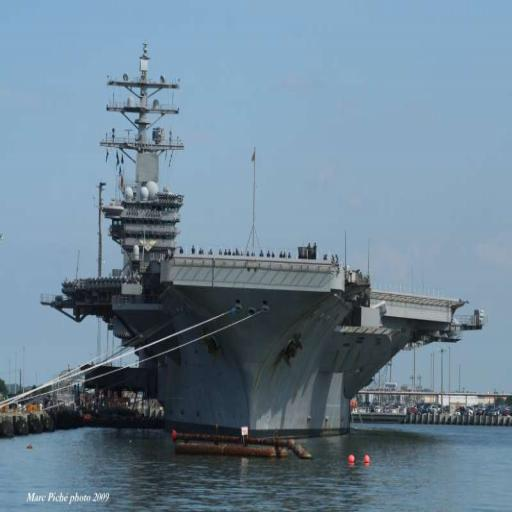Portanaves: (38, 19, 489, 459)
